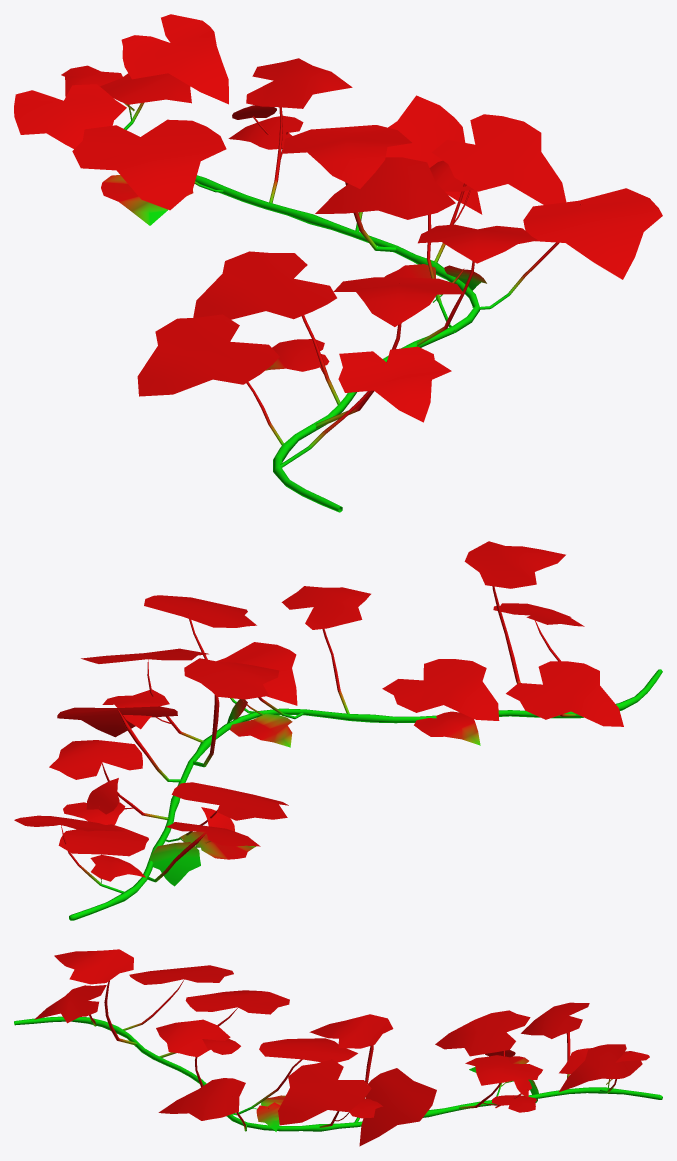
The model's file is Var8_LOD1.fbx.
The picture shows the model from 3 angles, top to bottom: view 1: azimuth 30°, elevation 25°; view 2: azimuth 150°, elevation 25°; view 3: azimuth 270°, elevation 25°; orthographic projection. The views are drawn at different scales.
Visible parts, largest first — view 1: _ddmh_Var8_LOD1; view 2: _ddmh_Var8_LOD1; view 3: _ddmh_Var8_LOD1.
Boxes of the visible parts, x1,y1,x2,y2 form: _ddmh_Var8_LOD1: (14, 14, 662, 512); _ddmh_Var8_LOD1: (14, 541, 662, 920); _ddmh_Var8_LOD1: (14, 949, 662, 1146).
Size of the model in its own units: 38 by 11.59 by 58.33.
